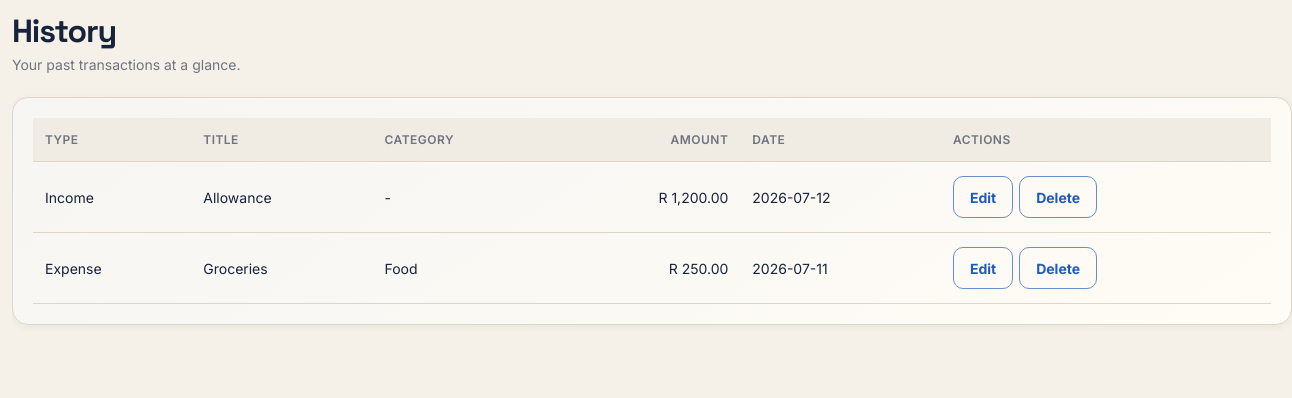
Test: shows a clear error and restores the controls when deletion fails
The width and height of the screenshot is (1292, 398).
Click the button with aria-label "Delete expense Groceries" at (1058, 268), box [1019,247,1097,289]
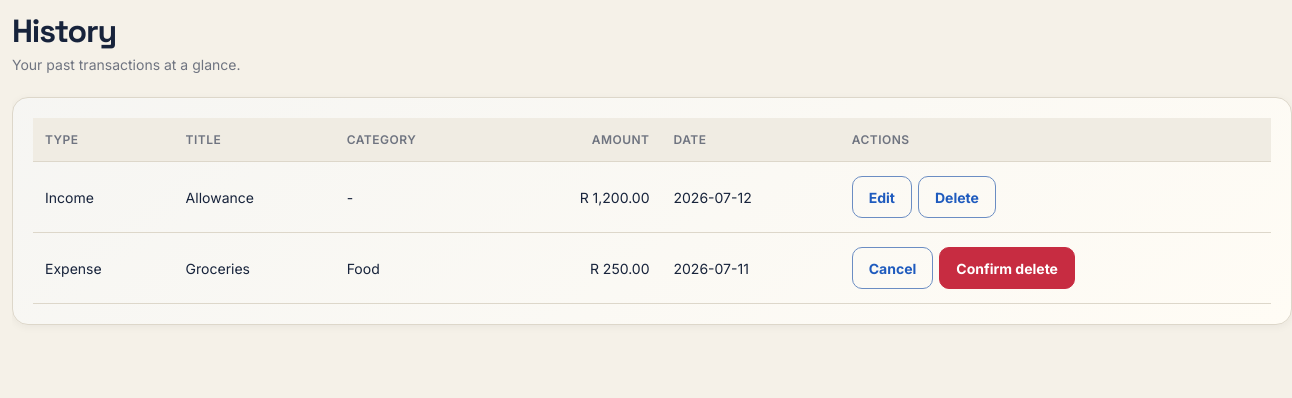
Click the button with aria-label "Confirm delete expense Groceries" at (1007, 268), box [939,247,1075,289]
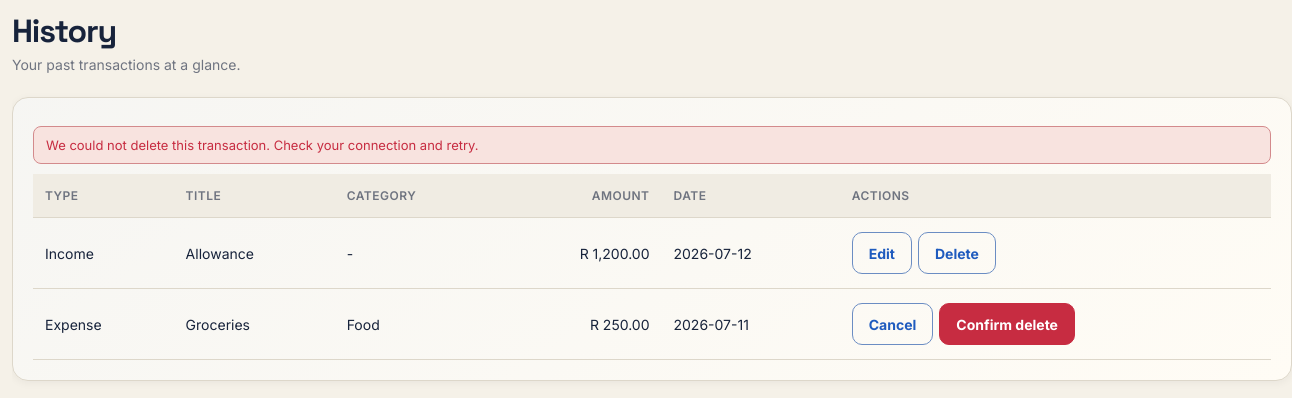
Expected: the button with aria-label "Confirm delete expense Groceries" is enabled, [939,303,1075,345]
Now the message shows "could not delete this transaction", box [46,137,478,153]
